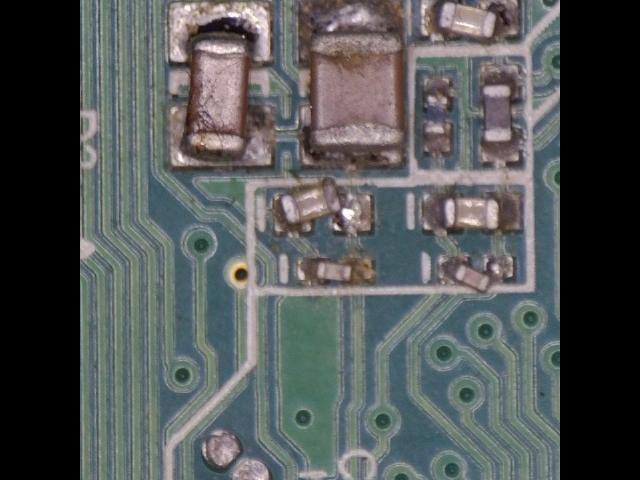Incorrect_installation: (274, 177, 374, 234), (420, 1, 521, 39), (438, 254, 515, 295)
